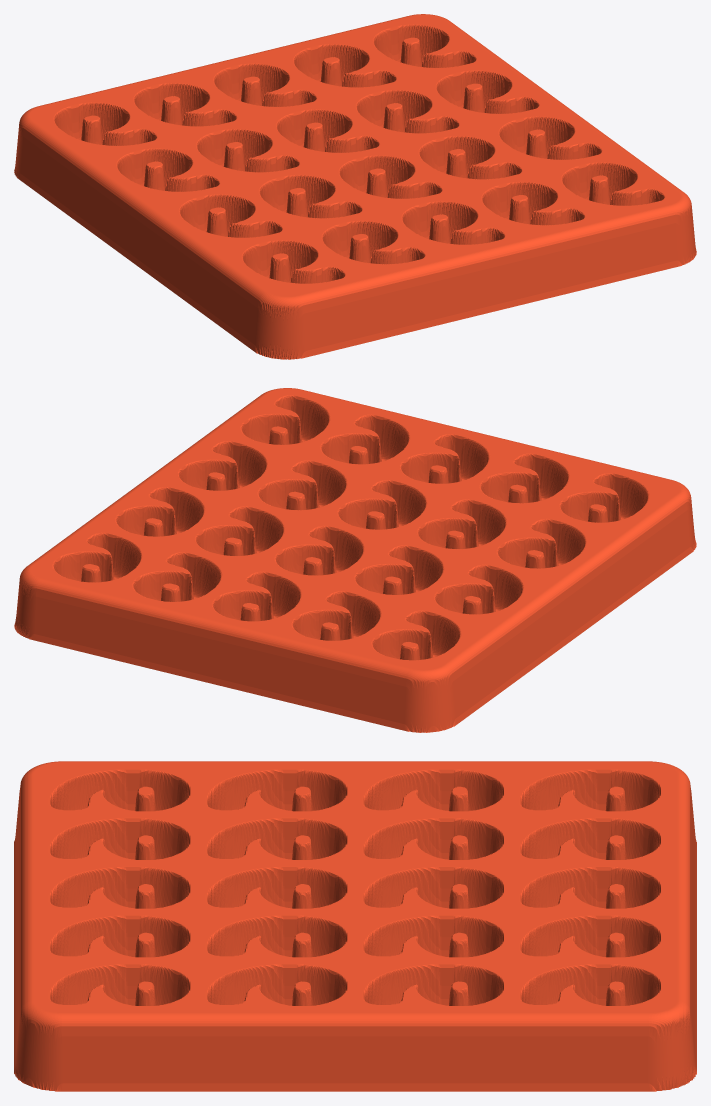
The model's file is mold.glb.
3 views of the same model, one above another, from view 1: azimuth 30°, elevation 25°; view 2: azimuth 150°, elevation 25°; view 3: azimuth 270°, elevation 25° (orthographic). The views are drawn at different scales.
Visible parts, largest first — view 1: geometry_0; view 2: geometry_0; view 3: geometry_0.
Boxes of the visible parts, box(x1,y1,x2,y2) form: geometry_0: box(14, 14, 696, 359); geometry_0: box(14, 388, 696, 732); geometry_0: box(14, 761, 696, 1091).
Bounding box in the file's own units: 0.1182 × 0.0145 × 0.1278.
